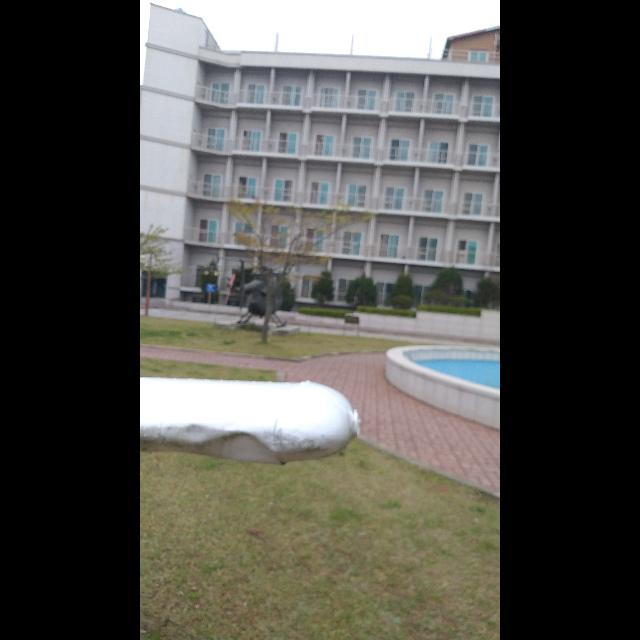dent: (194, 427, 288, 467), (180, 420, 212, 440)
